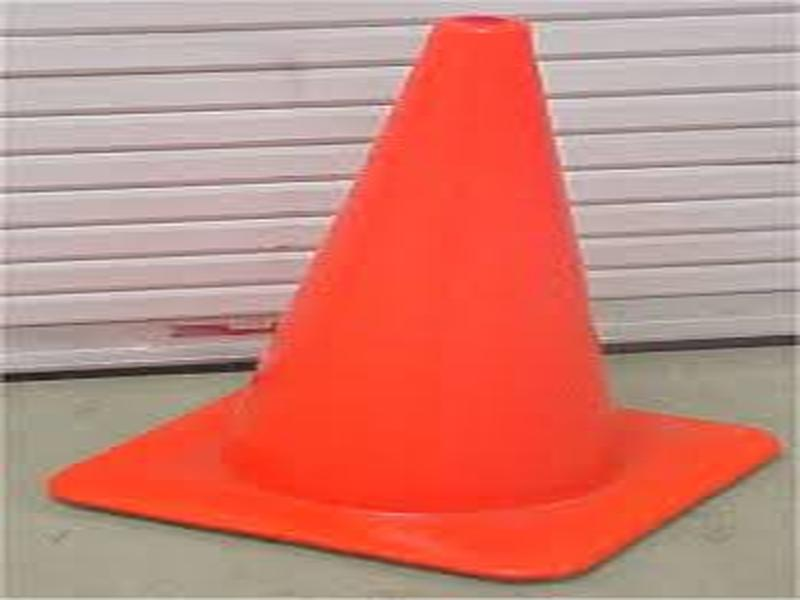Cone1: (43, 13, 783, 585)
